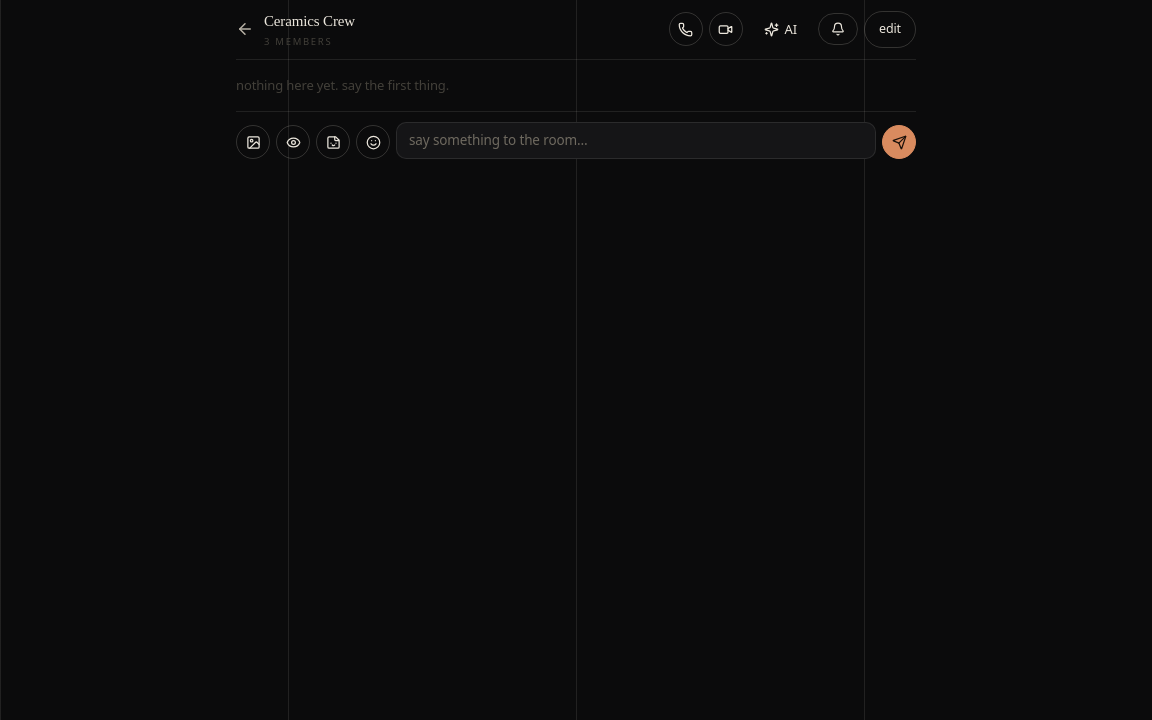
Test: room description modal › renders the room name as the modal title
The width and height of the screenshot is (1152, 720).
Click the button "Ceramics Crew 3 members". click: (309, 21)
box: [264,10,659,49]
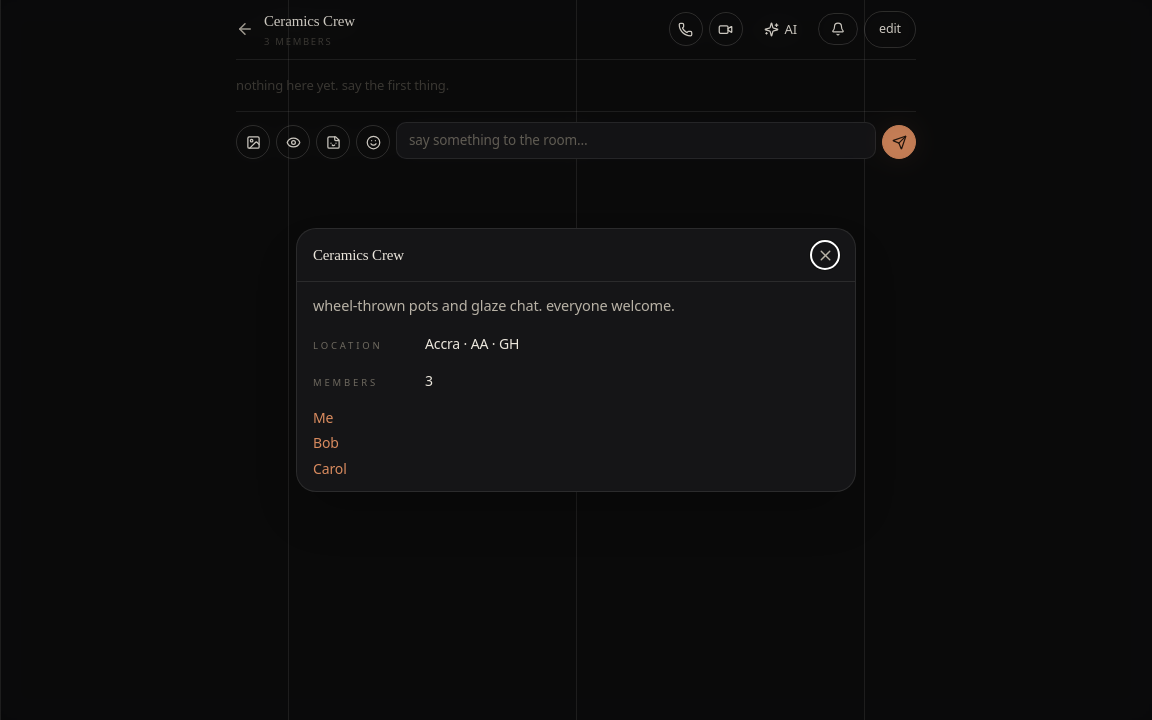
Expected: the dialog shows "Ceramics Crew", [313,247,404,263]
